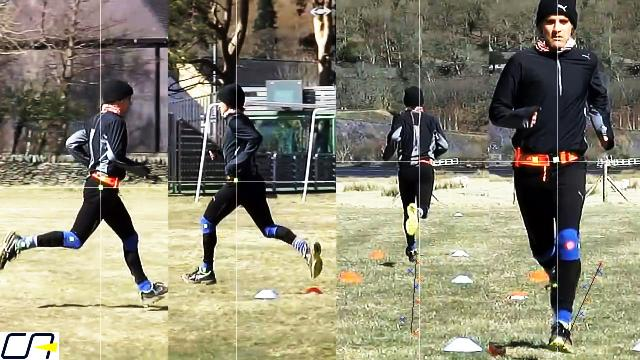berlari: (1, 74, 170, 310), (494, 0, 604, 360), (179, 73, 327, 295), (383, 82, 457, 274)
